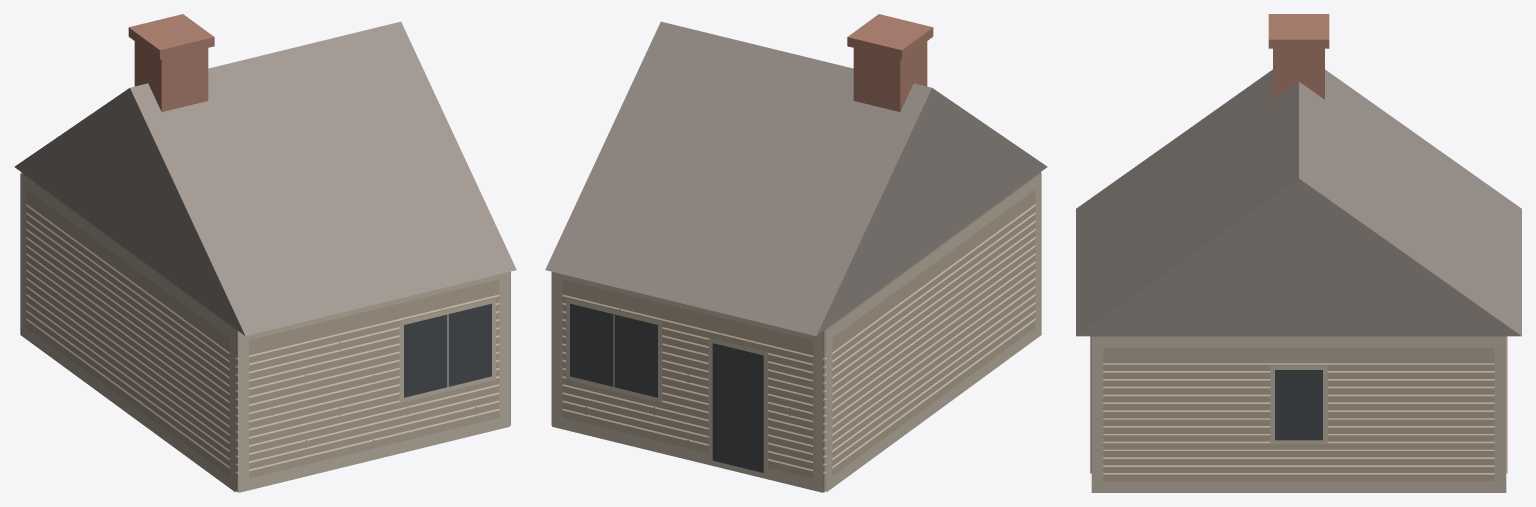
File: inf_artisan_dwelling_west_b__inferred_1835.glb
The picture shows the model from 3 angles, left to right: view 1: azimuth 30°, elevation 25°; view 2: azimuth 150°, elevation 25°; view 3: azimuth 270°, elevation 25°; orthographic projection. The views are drawn at different scales.
Visible parts, largest first — view 1: inf_artisan_dwelling_west_b__inferred_1835; view 2: inf_artisan_dwelling_west_b__inferred_1835; view 3: inf_artisan_dwelling_west_b__inferred_1835.
Part boxes in pixels (bbox=[...]): inf_artisan_dwelling_west_b__inferred_1835: bbox=[14, 14, 516, 492]; inf_artisan_dwelling_west_b__inferred_1835: bbox=[545, 14, 1047, 492]; inf_artisan_dwelling_west_b__inferred_1835: bbox=[1076, 14, 1521, 492].
Size of the model in its own units: 4.96 by 6.37 by 7.21.
